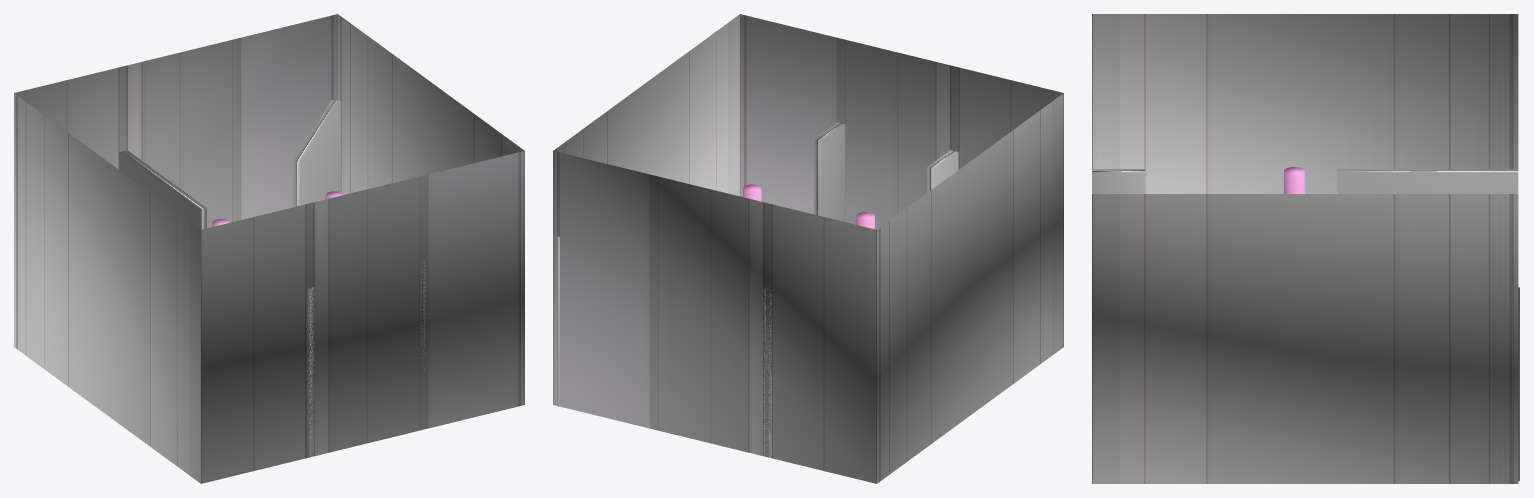
Rendered from map.dae.
3 renders of one model, left to right at view 1: azimuth 30°, elevation 25°; view 2: azimuth 150°, elevation 25°; view 3: azimuth 270°, elevation 25°, orthographic. The views are drawn at different scales.
Size of the model in its own units: 4 by 4.01 by 3.
Materials: 4 (1 with a texture image).
